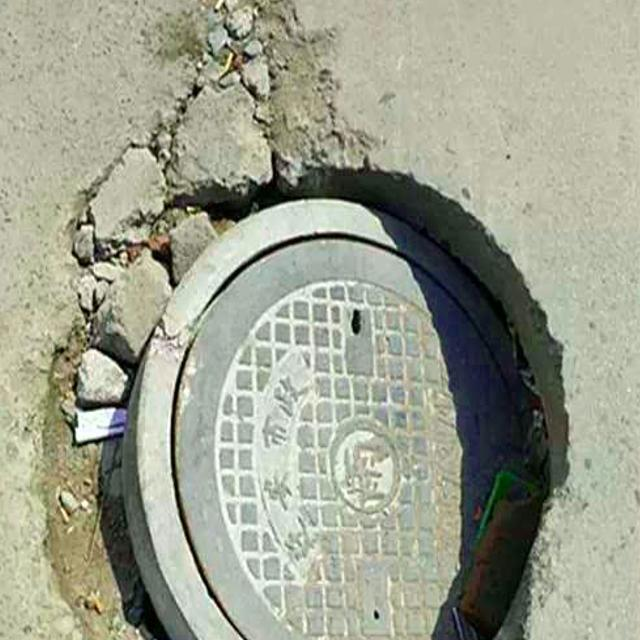circle: (52, 0, 567, 640)
